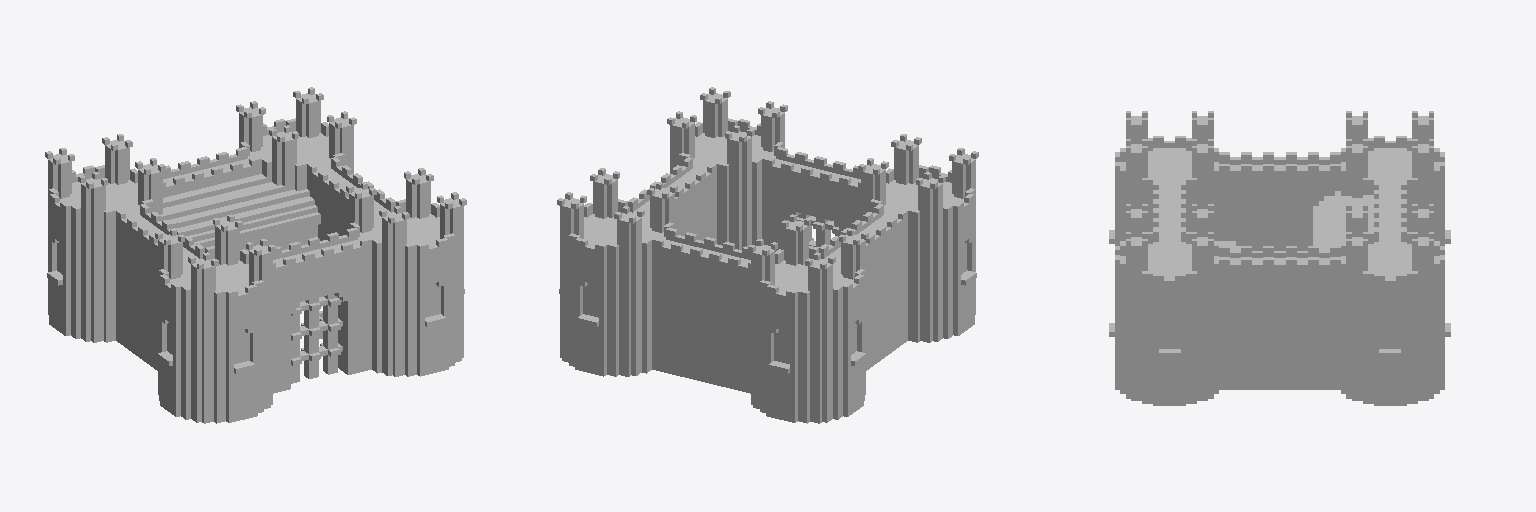
Rendered from headquarters.obj.
3 renders of one model, left to right at view 1: azimuth 30°, elevation 25°; view 2: azimuth 150°, elevation 25°; view 3: azimuth 270°, elevation 25°, orthographic.
Parts seen in each view (by area): view 1: object 1; view 2: object 1; view 3: object 1.
Boxes of the visible parts, box(x1,y1,x2,y2) form: object 1: box(45, 87, 466, 423); object 1: box(557, 87, 978, 423); object 1: box(1109, 111, 1450, 405).
Bounding box in the file's own units: 6.2 × 3.2 × 6.2.